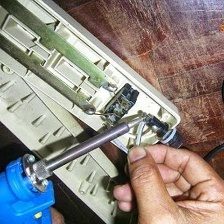three_eye_plug: (0, 0, 191, 165)
